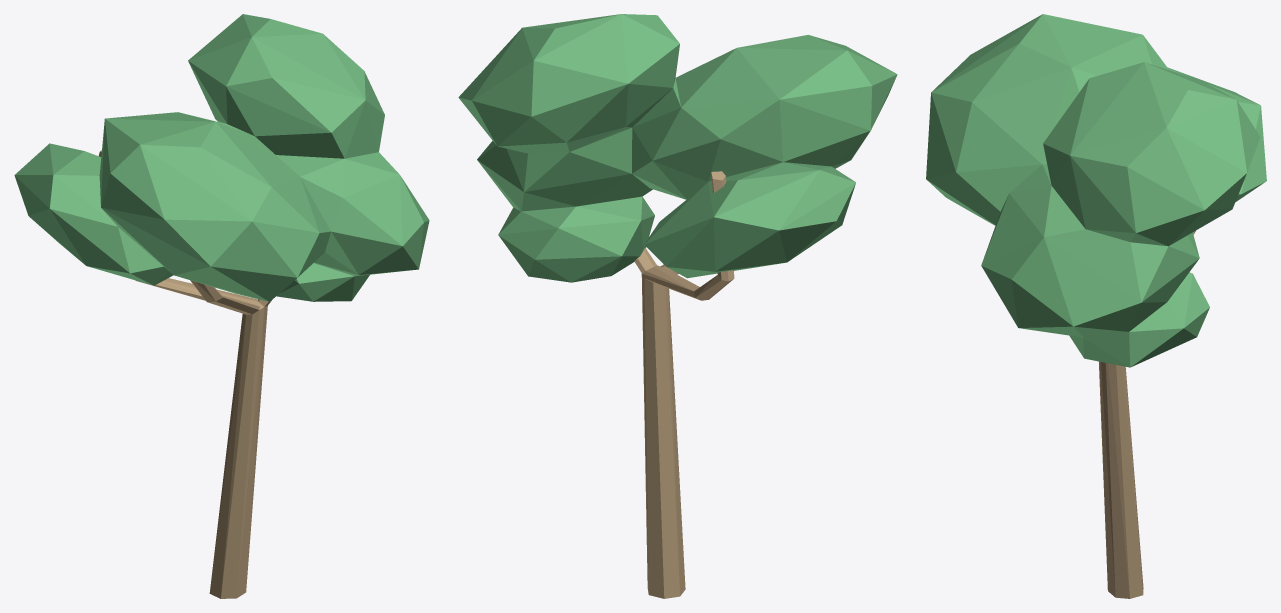
File: tree26.fbx
3 views of the same model, side by side, from view 1: azimuth 30°, elevation 25°; view 2: azimuth 150°, elevation 25°; view 3: azimuth 270°, elevation 25° (orthographic). The views are drawn at different scales.
Parts seen in each view (by area): view 1: treetype26; view 2: treetype26; view 3: treetype26.
Part boxes in pixels (x1,y1,x2,y2): treetype26: [14, 14, 429, 598]; treetype26: [458, 14, 897, 598]; treetype26: [926, 14, 1266, 598].
Size of the model in its own units: 136 by 197 by 112.
